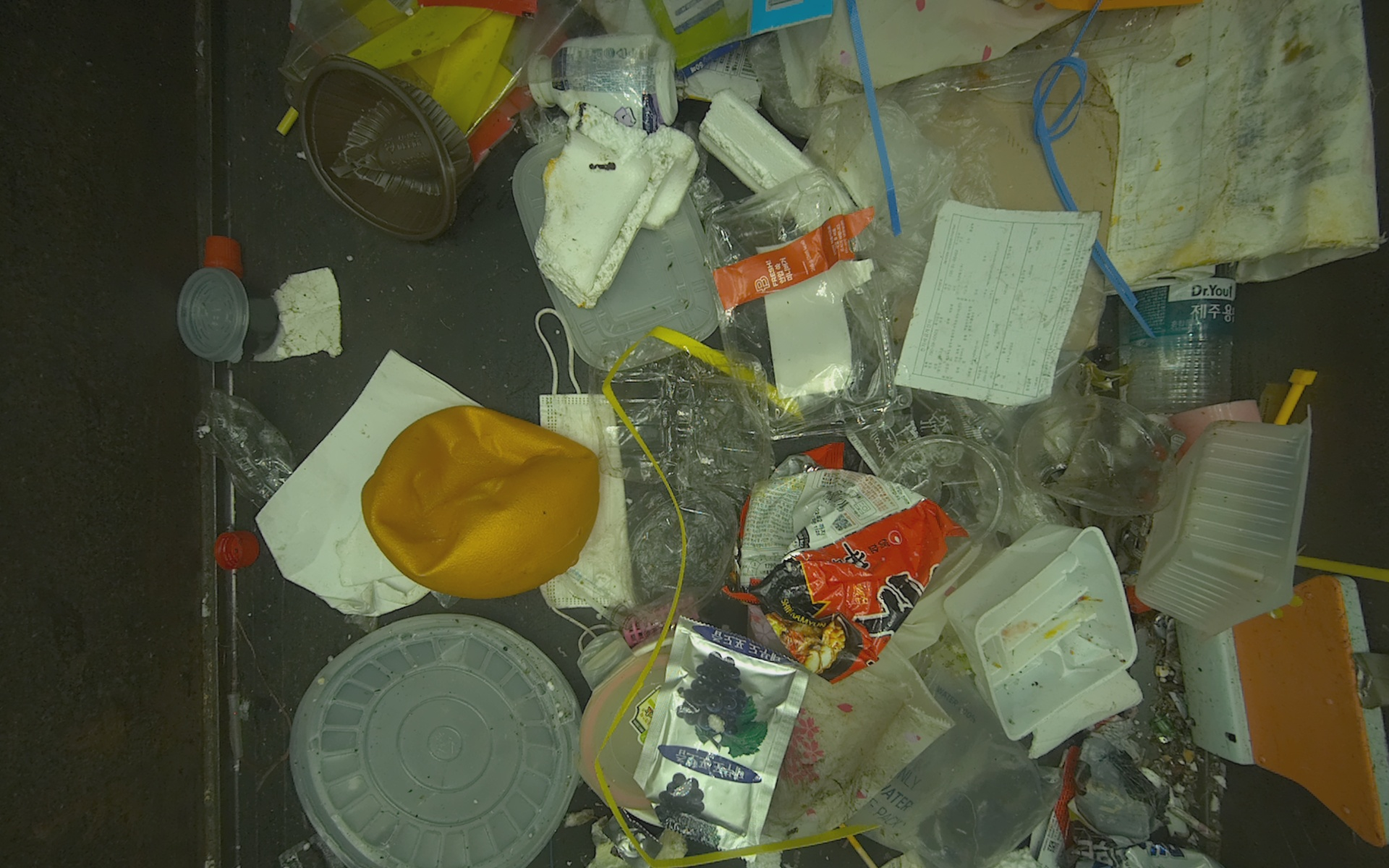PET-C: (290, 614, 581, 866), (703, 166, 914, 440), (1015, 394, 1178, 517), (877, 435, 1010, 551)
